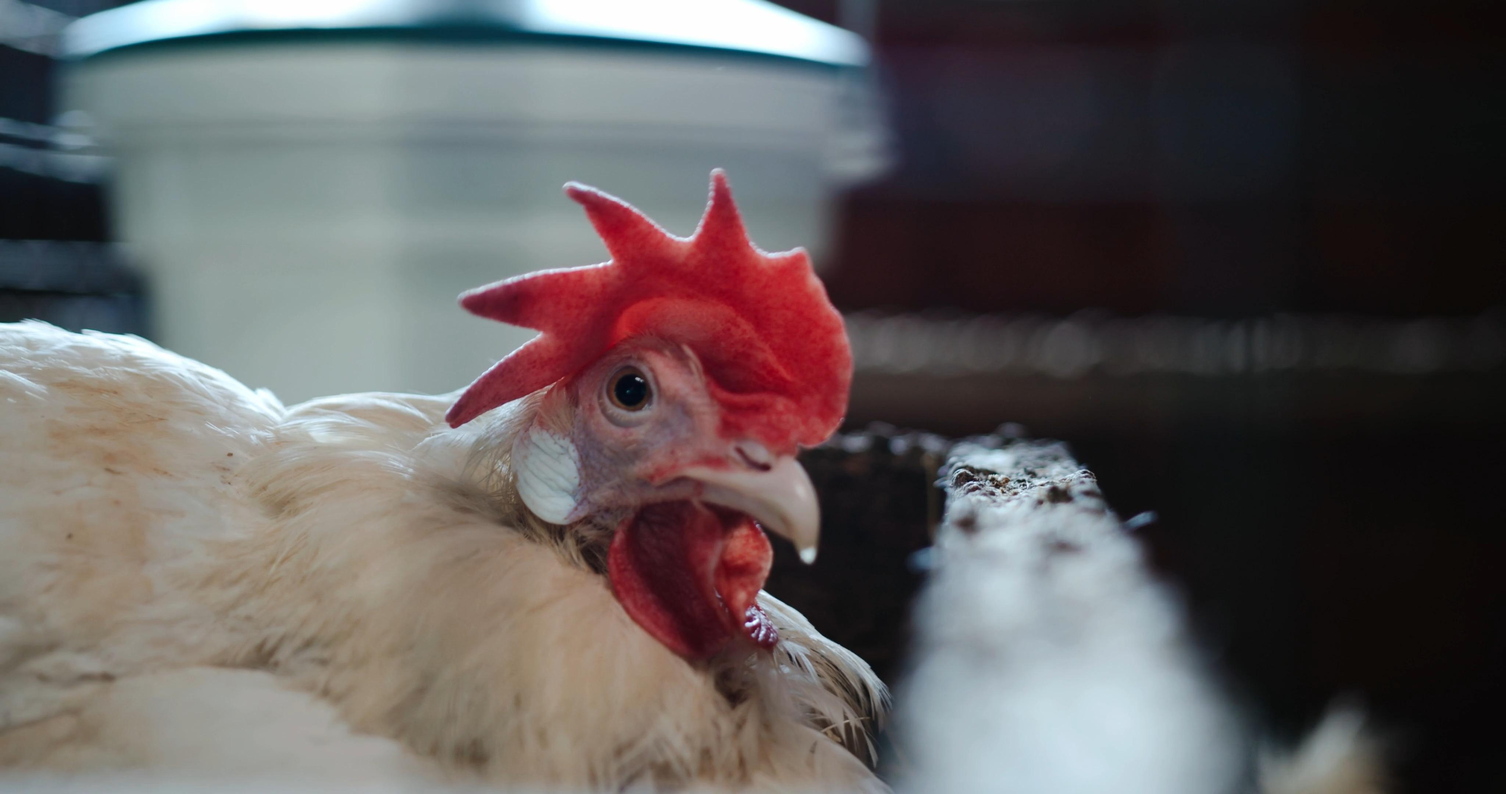Normal: (111, 175, 861, 794)
